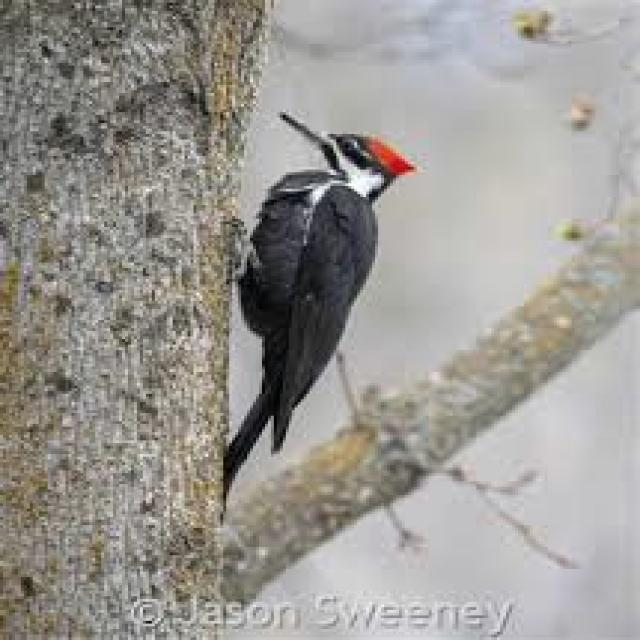woodpecker: (223, 112, 414, 498)
